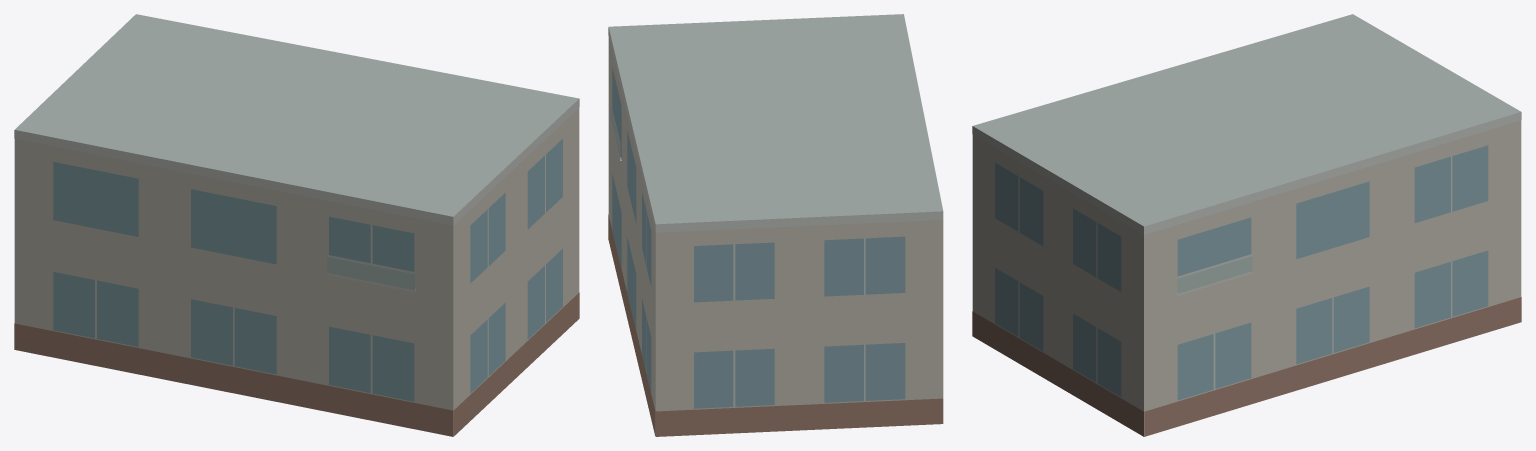
Rendered from survey-upis-33036886.glb.
3 views of the same model, side by side, from view 1: azimuth 30°, elevation 25°; view 2: azimuth 150°, elevation 25°; view 3: azimuth 270°, elevation 25° (orthographic). The views are drawn at different scales.
Parts seen in each view (by area): view 1: survey-upis-33036886.tmp; view 2: survey-upis-33036886.tmp; view 3: survey-upis-33036886.tmp.
Part boxes in pixels (x1,y1,x2,y2): survey-upis-33036886.tmp: (14, 14, 579, 436); survey-upis-33036886.tmp: (608, 14, 943, 436); survey-upis-33036886.tmp: (972, 14, 1521, 436).
Size of the model in its own units: 13.23 by 6.1 by 14.44.
